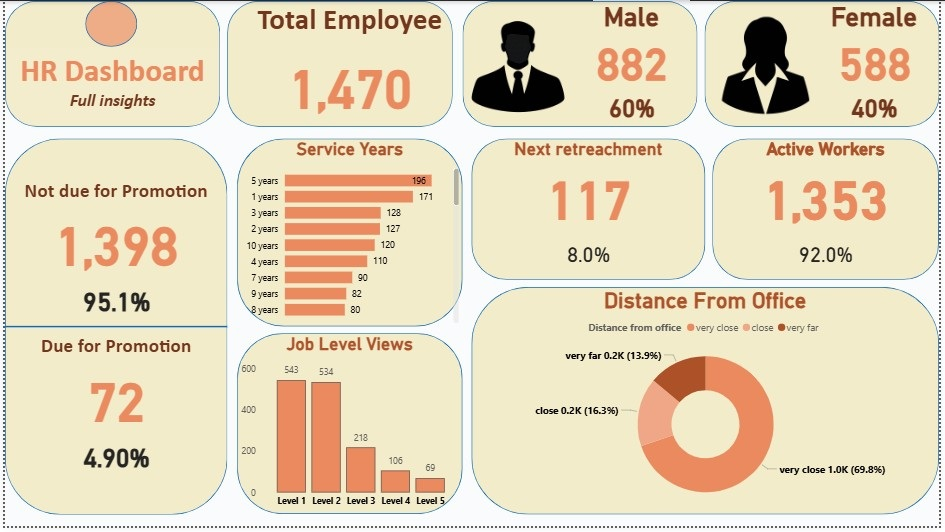

The page's visual inventory and layout, read from the dashboard file:
{"tool":"powerbi","page":{"name":"HR Analyist","canvas":[1280,720],"ordinal":0},"visuals":[{"type":"shape","box":[0,0,294.8,172.3],"z":0},{"type":"shape","box":[304.8,0,309.1,172.3],"z":1000},{"type":"shape","box":[626.7,0,321.9,172.3],"z":2000},{"type":"shape","box":[317.6,455.8,309.1,247.8],"z":3000},{"type":"shape","box":[969.9,188,310.5,193.7],"z":4000},{"type":"shape","box":[958.5,0,321.9,172.3],"z":5000},{"type":"shape","box":[317.6,188,309.1,257.8],"z":6000},{"type":"shape","box":[639.5,188,320.5,193.7],"z":7000},{"type":"shape","box":[0,188,304.8,515.6],"z":8000},{"type":"shape","box":[639.5,391.7,640.9,311.9],"z":9000},{"type":"textbox","box":[0,62.7,294.8,109.7],"z":10000},{"type":"shape","box":[109.7,0,71.2,62.7],"z":11000},{"type":"card","title":"Total Employee","fields":{"Values":["All measures.Total_Emp"]},"box":[317.6,0,309.1,172.3],"z":12000},{"type":"card","title":"Male","fields":{"Values":["All measures.Males"]},"box":[769.1,0,179.5,116.8],"z":13000},{"type":"card","title":"Female","fields":{"Values":["All measures.Females"]},"box":[1102.4,0,178,116.8],"z":14000},{"type":"card","fields":{"Values":["All measures.Male %"]},"box":[769.1,116.8,179.5,55.5],"z":15000},{"type":"card","fields":{"Values":["All measures.Females %"]},"box":[1102.4,116.8,178,55.5],"z":16000},{"type":"image","box":[626.6,5.3,151.7,166.3],"z":17000},{"type":"image","box":[960.5,4,163.6,169],"z":18000},{"type":"shape","box":[0,188,304.8,515.6],"z":19000},{"type":"card","fields":{"Values":["All measures.% Due for Promotion"]},"box":[0,589.6,304.8,65.5],"z":20000},{"type":"card","title":"Due for Promotion","fields":{"Values":["All measures.Due for promotion"]},"box":[0,455.8,304.8,133.9],"z":21000},{"type":"card","fields":{"Values":["All measures.% Not Due Promotion"]},"box":[0,376.3,304.8,65.5],"z":22000},{"type":"card","title":"Not due for Promotion","fields":{"Values":["All measures.Not due promotion"]},"box":[0,242.4,304.8,133.9],"z":23000},{"type":"card","title":"Active Workers","fields":{"Values":["All measures.On service"]},"box":[969.9,188,310.5,121.1],"z":24000},{"type":"card","title":"Active Workers","fields":{"Values":["All measures.On service"]},"box":[969.5,188,310.5,121.1],"z":25000},{"type":"card","title":"Next retreachment","fields":{"Values":["All measures.Will be retrenched"]},"box":[639.5,188,320.5,121.1],"z":26000},{"type":"card","fields":{"Values":["All measures.% will be retreachment"]},"box":[639.5,309.1,320.5,72.6],"z":27000},{"type":"card","fields":{"Values":["All measures.% on service"]},"box":[969.9,309.1,310.5,72.6],"z":28000},{"type":"donutChart","title":"Distance From Office","fields":{"Category":["HR Analytics Data2.Distance from office"],"Y":["All measures.Total_Emp"]},"box":[639.5,391.7,640.9,311.9],"z":29000},{"type":"clusteredBarChart","title":"Service Years","fields":{"Category":["HR Analytics Data2.Years_at_company"],"Y":["All measures.Total_Emp"]},"box":[317.6,188,309.1,257.8],"z":30000},{"type":"columnChart","title":"Job Level Views","fields":{"Category":["HR Analytics Data2.Job_level"],"Y":["All measures.Total_Emp"]},"box":[317.6,455.8,309.1,247.8],"z":31000}]}

Visuals, with their boxes in screenshot pixels (x1, y1, x2, y2), scaled from the page's 1280x720 canvas onto the 945x532 screenshot:
shape: bbox=(0, 0, 218, 127)
shape: bbox=(225, 0, 453, 127)
shape: bbox=(463, 0, 700, 127)
shape: bbox=(234, 337, 463, 520)
shape: bbox=(716, 139, 944, 282)
shape: bbox=(708, 0, 944, 127)
shape: bbox=(234, 139, 463, 329)
shape: bbox=(472, 139, 709, 282)
shape: bbox=(0, 139, 225, 520)
shape: bbox=(472, 289, 944, 520)
textbox: bbox=(0, 46, 218, 127)
shape: bbox=(81, 0, 134, 46)
"Total Employee" card: bbox=(234, 0, 463, 127)
"Male" card: bbox=(568, 0, 700, 86)
"Female" card: bbox=(814, 0, 944, 86)
card - All measures.Male %: bbox=(568, 86, 700, 127)
card - All measures.Females %: bbox=(814, 86, 944, 127)
image: bbox=(463, 4, 575, 127)
image: bbox=(709, 3, 830, 128)
shape: bbox=(0, 139, 225, 520)
card - All measures.% Due for Promotion: bbox=(0, 436, 225, 484)
"Due for Promotion" card: bbox=(0, 337, 225, 436)
card - All measures.% Not Due Promotion: bbox=(0, 278, 225, 326)
"Not due for Promotion" card: bbox=(0, 179, 225, 278)
"Active Workers" card: bbox=(716, 139, 944, 228)
"Active Workers" card: bbox=(716, 139, 944, 228)
"Next retreachment" card: bbox=(472, 139, 709, 228)
card - All measures.% will be retreachment: bbox=(472, 228, 709, 282)
card - All measures.% on service: bbox=(716, 228, 944, 282)
"Distance From Office" donutChart: bbox=(472, 289, 944, 520)
"Service Years" clusteredBarChart: bbox=(234, 139, 463, 329)
"Job Level Views" columnChart: bbox=(234, 337, 463, 520)
